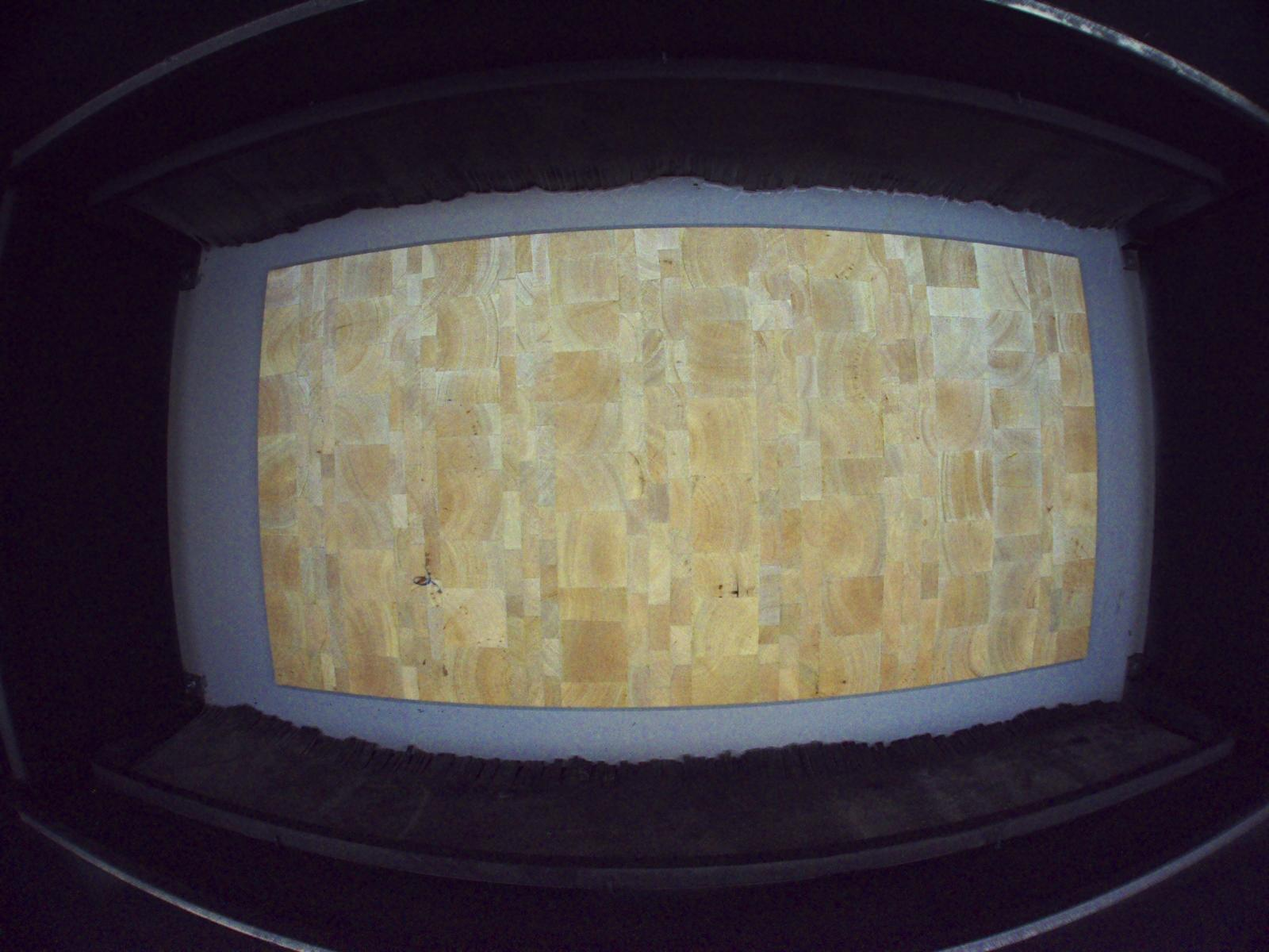nudillo: (414, 574, 427, 587)
sheck_ecuatoriano: (730, 576, 740, 599)
